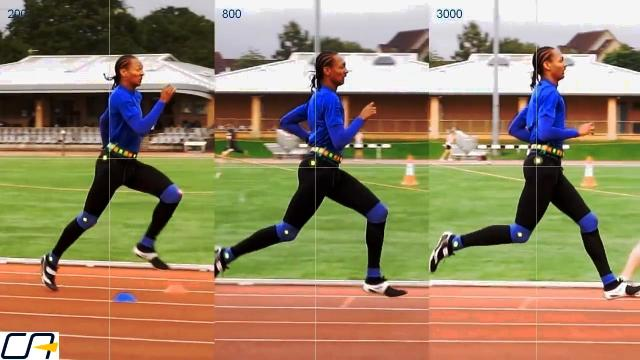berlari: (428, 43, 640, 308), (212, 48, 414, 308), (36, 47, 194, 293)
